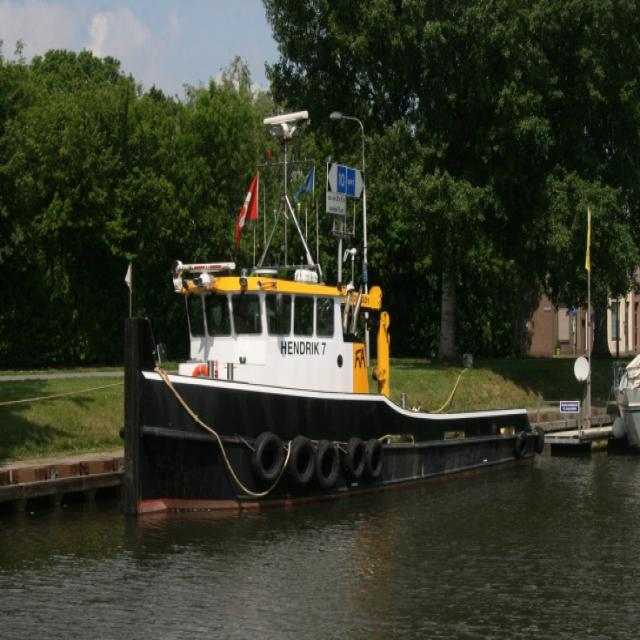tugboat: (116, 107, 548, 539)
